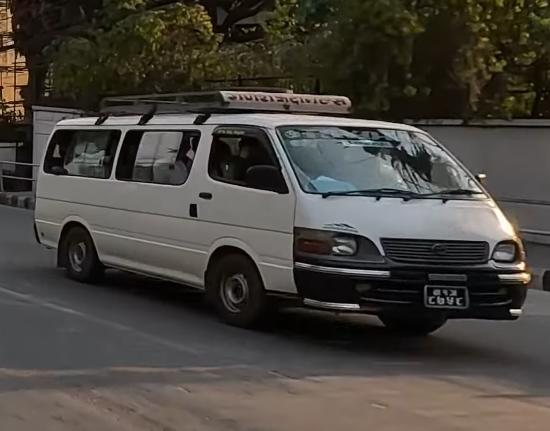micro_bus: (24, 103, 535, 351)
